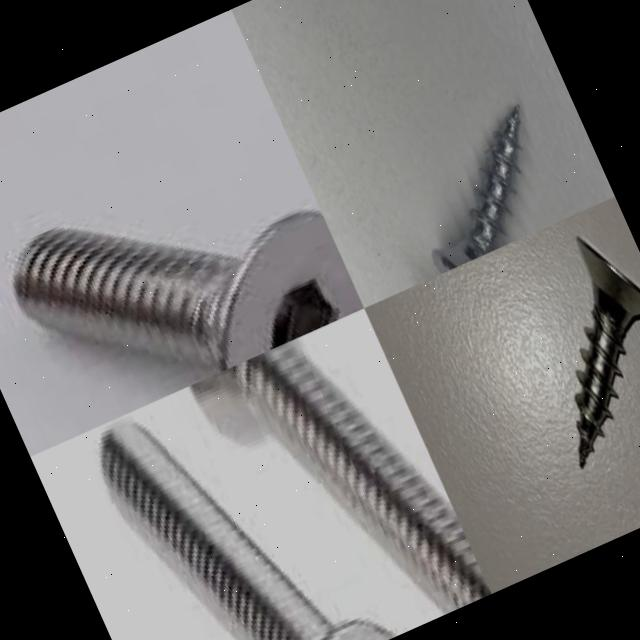Screw: (193, 336, 492, 616), (101, 417, 396, 640), (18, 209, 364, 373), (575, 235, 640, 467), (432, 105, 520, 274)
